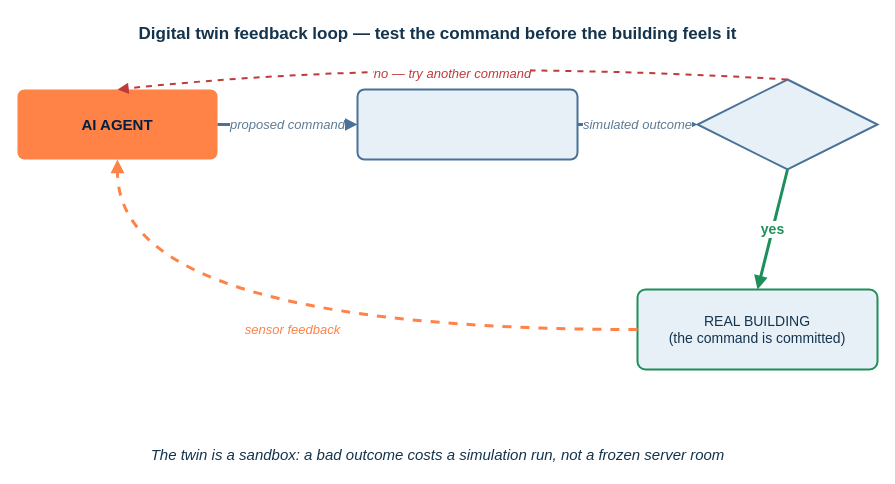
The diagram is 895 pixels wide and 484 high, and some of its shapes have lost their labels. The shapes that lost their labels are listed below. From the top down, each one's centre as x and y in pixels, then its label:
At point (467, 124): "DIGITAL TWIN (BuildSim)".
At point (787, 124): "outcome OK?".
